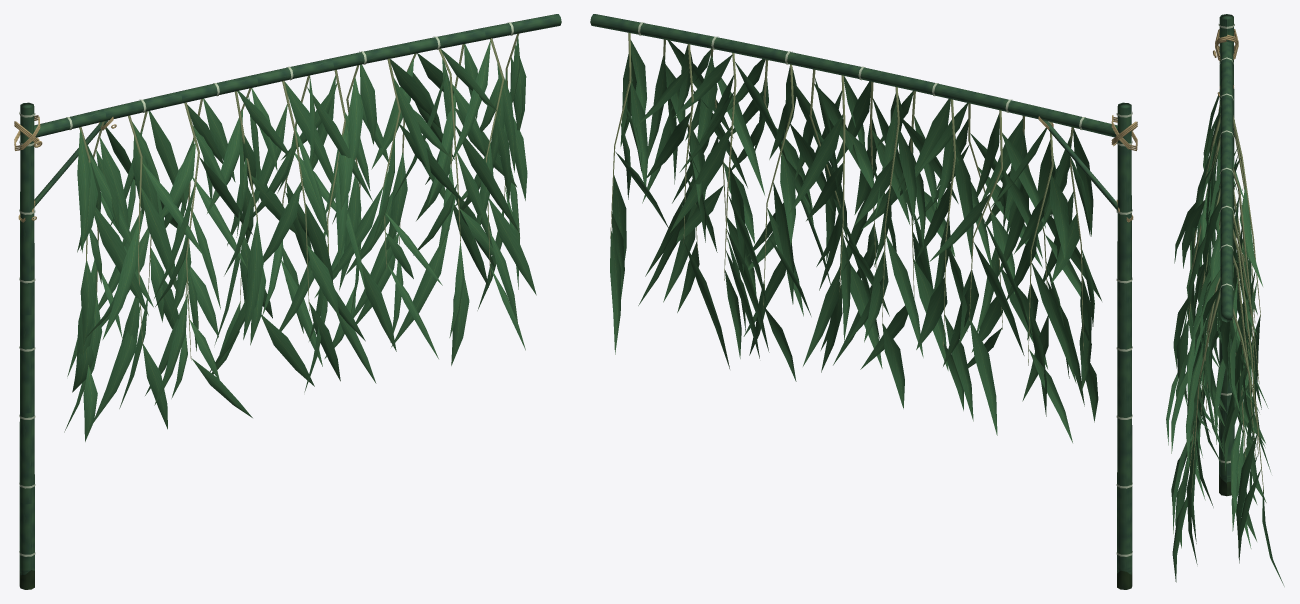
File: nyanisyarud-bamboo-sasa-cantilever-b.glb
3 renders of one model, left to right at view 1: azimuth 30°, elevation 25°; view 2: azimuth 150°, elevation 25°; view 3: azimuth 270°, elevation 25°, orthographic.
Parts seen in each view (by area): view 1: Silken bamboo leaves, Jade bamboo, Slender hanging twigs; view 2: Silken bamboo leaves, Jade bamboo, Slender hanging twigs; view 3: Silken bamboo leaves, Jade bamboo, Slender hanging twigs, Natural hemp lashings, Pale bamboo node rings, Soil stained bamboo base.
Boxes of the visible parts, x1=… form: Silken bamboo leaves: x1=64, y1=36, x2=536, y2=441; Jade bamboo: x1=19, y1=14, x2=561, y2=575; Slender hanging twigs: x1=79, y1=33, x2=518, y2=365; Silken bamboo leaves: x1=610, y1=40, x2=1101, y2=442; Jade bamboo: x1=590, y1=14, x2=1132, y2=574; Slender hanging twigs: x1=610, y1=32, x2=1083, y2=365; Silken bamboo leaves: x1=1166, y1=90, x2=1284, y2=586; Jade bamboo: x1=1219, y1=14, x2=1234, y2=483; Slender hanging twigs: x1=1188, y1=101, x2=1263, y2=493; Natural hemp lashings: x1=1213, y1=29, x2=1238, y2=96; Pale bamboo node rings: x1=1218, y1=24, x2=1234, y2=463; Soil stained bamboo base: x1=1219, y1=474, x2=1231, y2=496.
Bounding box in the file's own units: 5.32 × 4.5 × 1.03.
6 materials, 4 textured.
